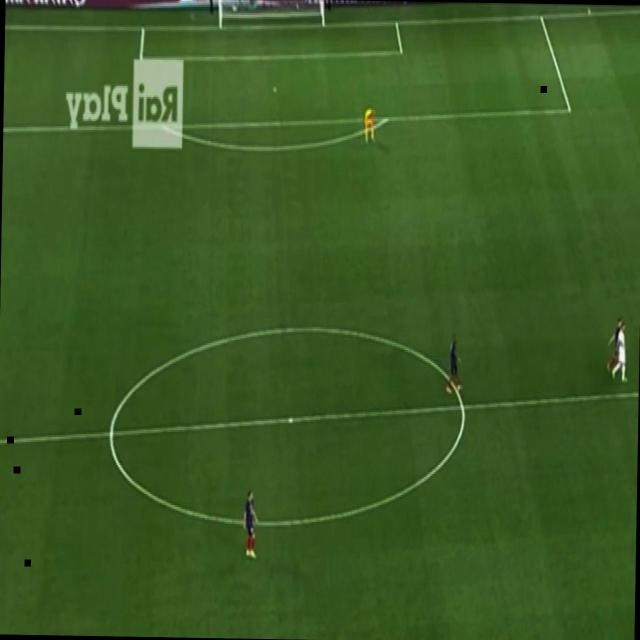player-white: (240, 483, 261, 562), (610, 317, 632, 388), (444, 330, 465, 398), (604, 316, 624, 376), (362, 102, 378, 143)
